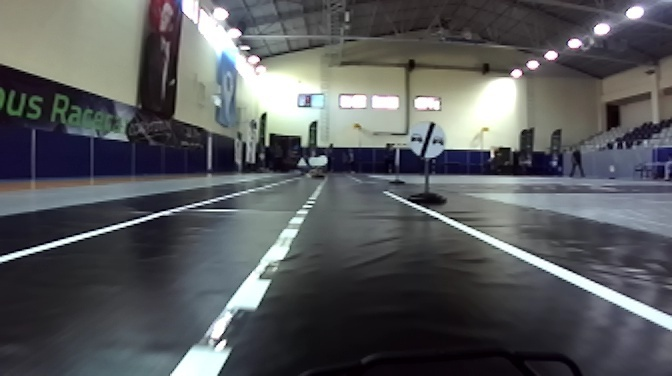sollama_serbest: (407, 120, 446, 160)
